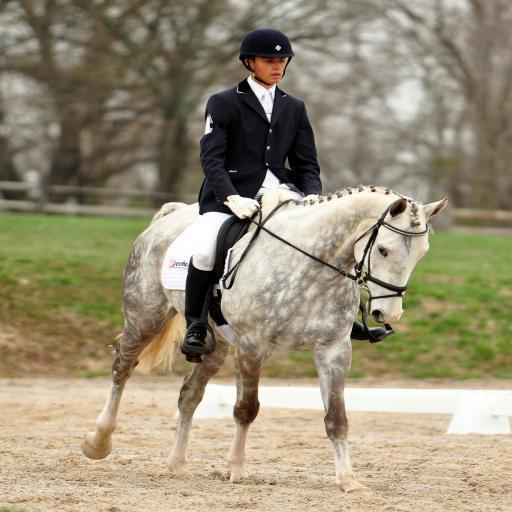horse: (76, 183, 452, 495)
